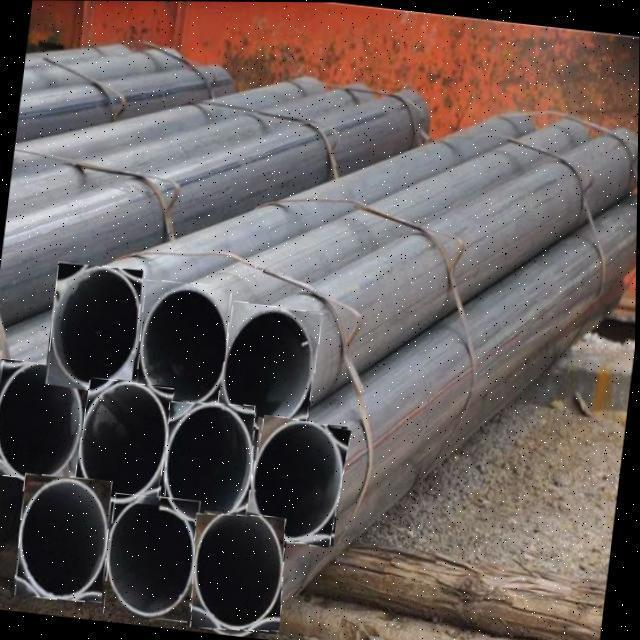pipe: (243, 414, 352, 547), (216, 301, 323, 432), (74, 377, 175, 506), (47, 262, 143, 392), (136, 280, 232, 410), (104, 493, 201, 621), (16, 473, 112, 602), (0, 358, 91, 484), (192, 513, 286, 631), (165, 402, 255, 524)
